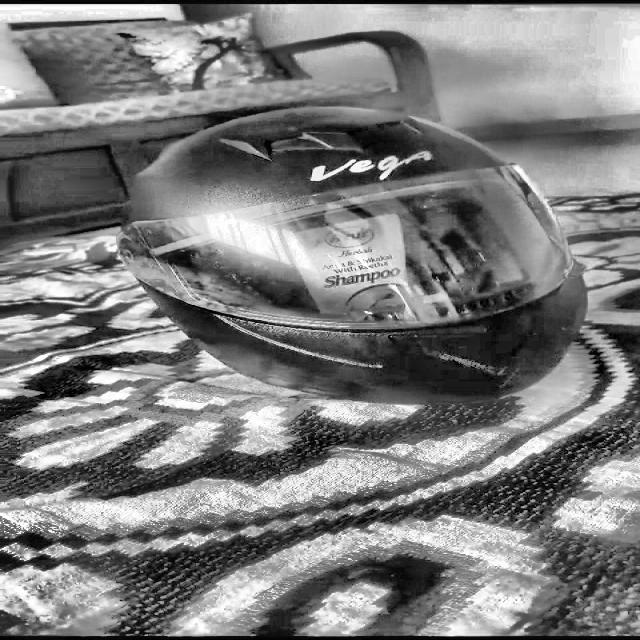Helmet: (123, 108, 573, 403)
